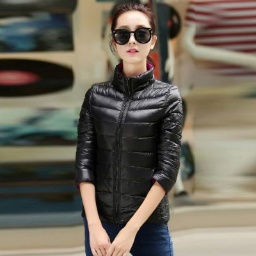face: (106, 1, 159, 69)
